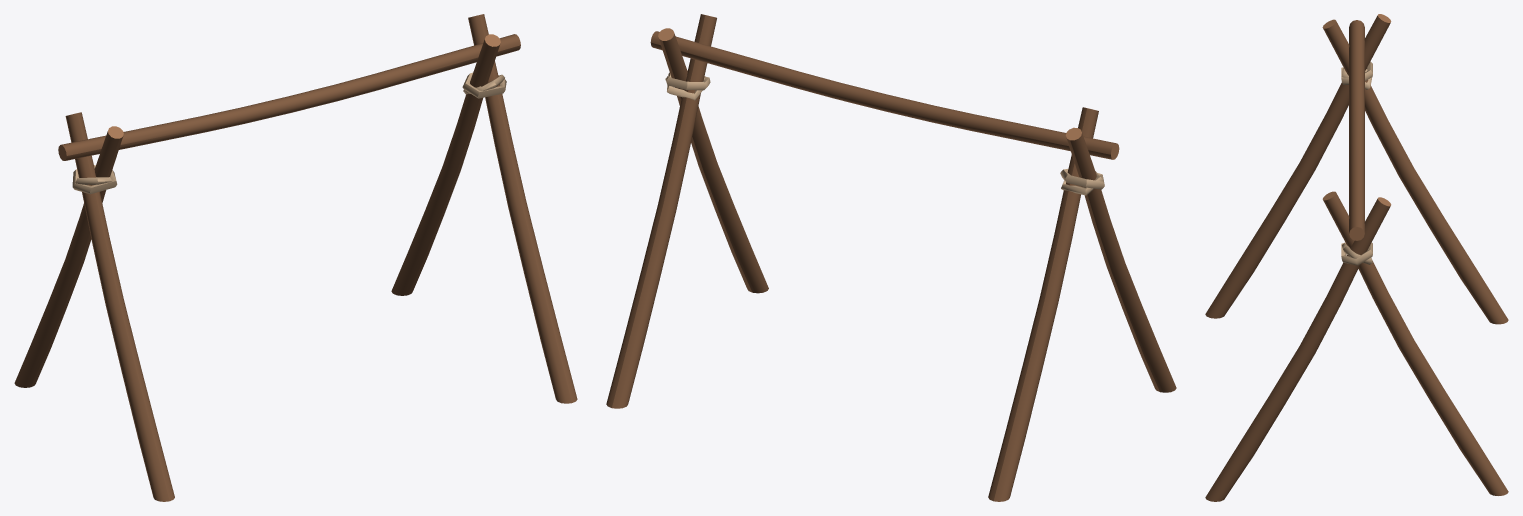
The model's file is Campfire_01.fbx.
3 views of the same model, side by side, from view 1: azimuth 30°, elevation 25°; view 2: azimuth 150°, elevation 25°; view 3: azimuth 270°, elevation 25° (orthographic). The views are drawn at different scales.
Parts seen in each view (by area): view 1: Campfire_01_LOD0; view 2: Campfire_01_LOD0; view 3: Campfire_01_LOD0.
Part boxes in pixels (x1,y1,x2,y2): Campfire_01_LOD0: (14, 14, 577, 501); Campfire_01_LOD0: (606, 14, 1176, 501); Campfire_01_LOD0: (1205, 14, 1508, 501).
Size of what is drawn, in the model's own units: 0.8154 by 0.55 by 0.5054.
